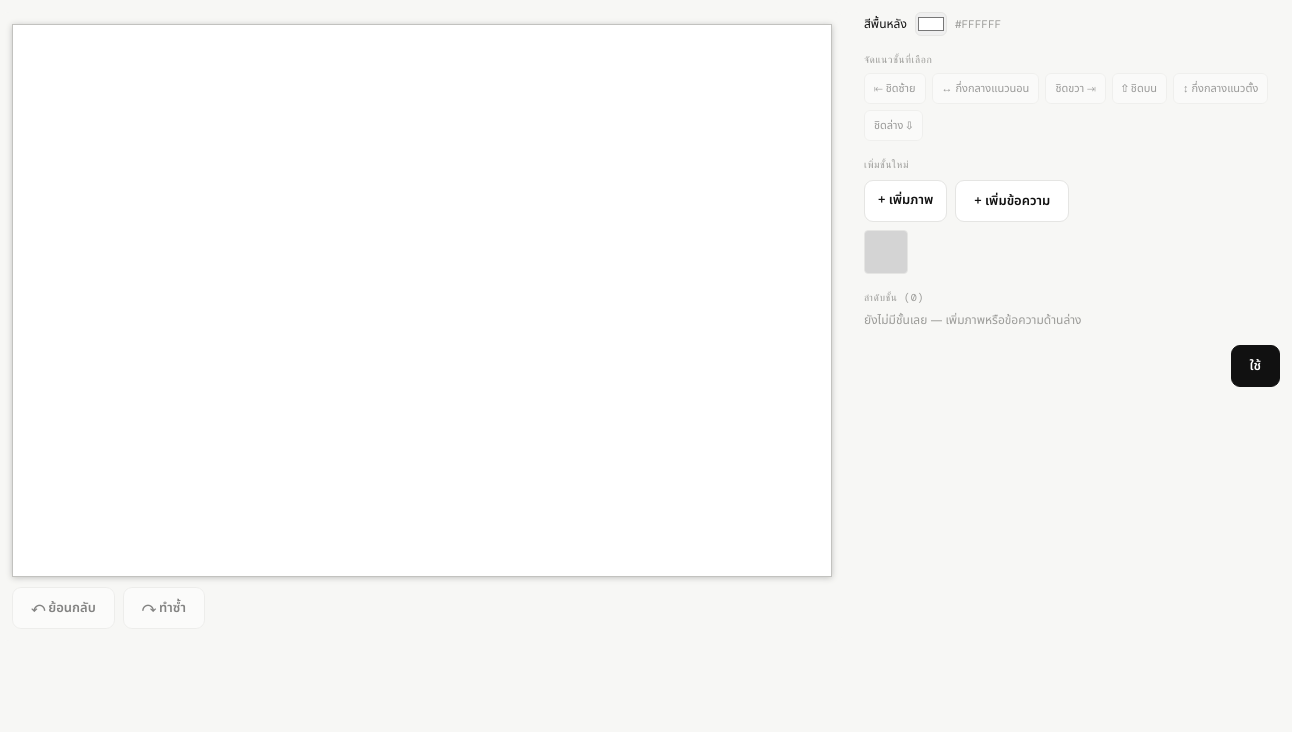
Compositor · บันทึกล้มเหลว › saveComposition ล้ม — ย้อน state กลับและแสดงเหตุผล
The width and height of the screenshot is (1292, 732).
Click the button "+ เพิ่มข้อความ" at [1012, 201], box left=955, top=180, right=1069, bottom=222
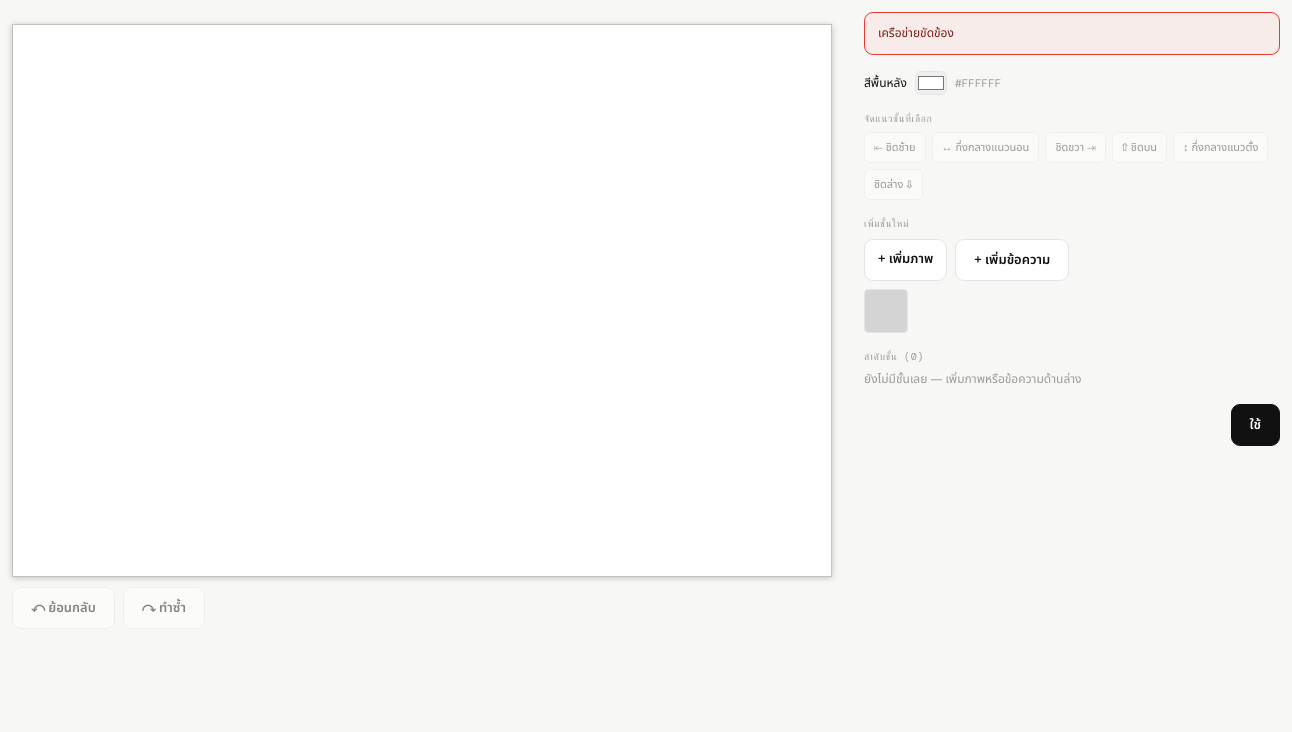
Expected: the text "เครือข่ายขัดข้อง" is shown, left=864, top=12, right=1280, bottom=55
